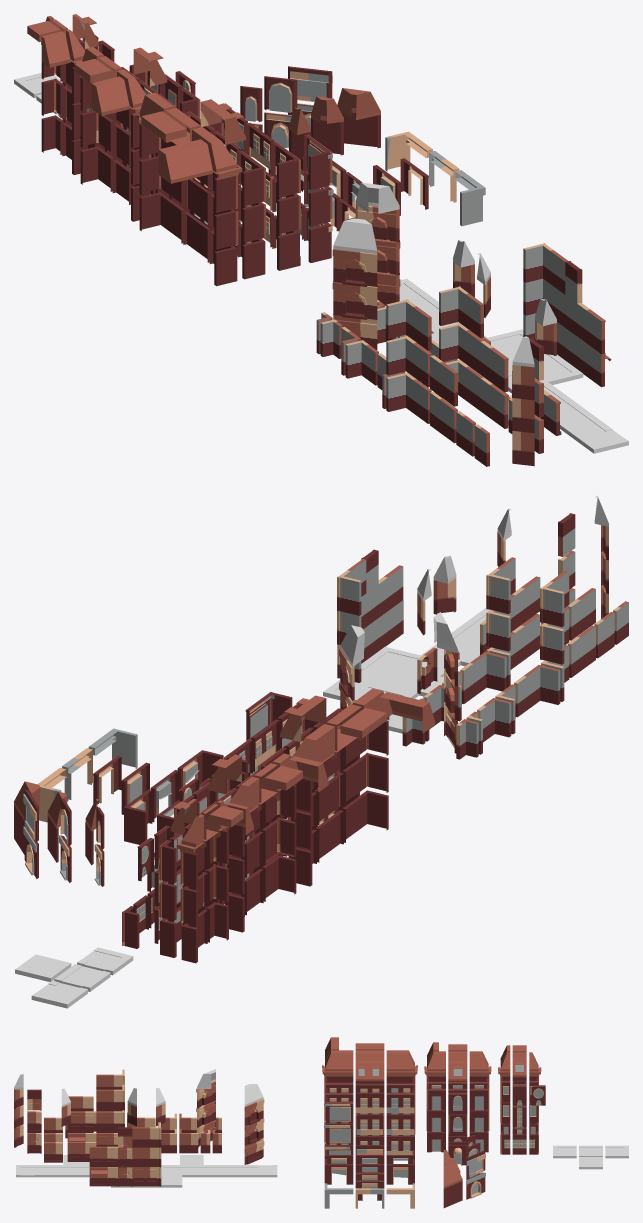
File: TOS_Modulaire_v5.fbx_Scene.fbx
The picture shows the model from 3 angles, top to bottom: view 1: azimuth 30°, elevation 25°; view 2: azimuth 150°, elevation 25°; view 3: azimuth 270°, elevation 25°; orthographic projection. The views are drawn at different scales.
Parts seen in each view (by area): view 1: B_Side_Roof_Bumped.001, Cube.025, Cube.024, Cube.026, Cube.004, Cube.031, B_Side_wall_plain.011, Cube.023, B_Angle_Right_Wall_Plain, B_Side_wall_plain.010, B_Angle_Left_Display_SideAndTopBeam, Cube.030 (+65 smaller); view 2: Cube.001, Cube.010, B_Angle_Left_wall_Plain, B_Angle_Left_wall_SideBeam, Cube.025, Cube.031, Cube.024, B_Angle_Left_Display_SideAndTopBeam, B_Angle_Right_garargeDoor_Closed, B_Side_Roof_Bumped.001, B_Side_Roof_Bumped_Windows, M_Angle_Left_wall_SideBeam (+40 smaller); view 3: B_Angle_Left_Display_SideAndTopBeam, B_Angle_Right_windows_TopAndSidebeam, B_Side_Roof_Bumped_Windows, B_Side_BumpedWindows_TopBeam, Cube.024, Cube.031, B_Angle_Left_Display_SideBeam, B_Angle_Right_Windows_SideBeam, B_Side_BumpedWindows_SideBeams, Cube.027, B_Angle_Left_Roof_Bumped, B_Angle_Right_roof_Bumped (+79 smaller).
Part boxes in pixels (left/top/right/bottom): B_Side_Roof_Bumped.001: left=158, top=139, right=212, bottom=183; Cube.025: left=386, top=299, right=431, bottom=350; Cube.024: left=439, top=286, right=483, bottom=337; Cube.026: left=386, top=336, right=431, bottom=387; Cube.004: left=386, top=372, right=431, bottom=423; Cube.031: left=523, top=243, right=568, bottom=294; B_Side_wall_plain.011: left=332, top=249, right=377, bottom=286; Cube.023: left=439, top=323, right=484, bottom=374; B_Angle_Right_Wall_Plain: left=139, top=192, right=184, bottom=243; B_Side_wall_plain.010: left=332, top=282, right=377, bottom=319; B_Angle_Left_Display_SideAndTopBeam: left=304, top=134, right=332, bottom=189; Cube.030: left=523, top=278, right=565, bottom=327; Cube.001: left=514, top=665, right=560, bottom=717; Cube.010: left=460, top=651, right=506, bottom=703; B_Angle_Left_wall_Plain: left=342, top=790, right=388, bottom=842; B_Angle_Left_wall_SideBeam: left=342, top=752, right=388, bottom=805; Cube.025: left=540, top=570, right=569, bottom=626; Cube.031: left=337, top=559, right=366, bottom=615; Cube.024: left=486, top=557, right=515, bottom=613; B_Angle_Left_Display_SideAndTopBeam: left=245, top=692, right=292, bottom=740; B_Angle_Right_garargeDoor_Closed: left=124, top=789, right=152, bottom=844; B_Side_Roof_Bumped.001: left=379, top=692, right=434, bottom=733; B_Side_Roof_Bumped_Windows: left=280, top=695, right=326, bottom=742; M_Angle_Left_wall_SideBeam: left=262, top=817, right=296, bottom=864; B_Angle_Left_Display_SideAndTopBeam: left=324, top=1096, right=353, bottom=1122; B_Angle_Right_windows_TopAndSidebeam: left=386, top=1087, right=415, bottom=1113; B_Side_Roof_Bumped_Windows: left=355, top=1060, right=384, bottom=1081; B_Side_BumpedWindows_TopBeam: left=355, top=1092, right=384, bottom=1113; Cube.024: left=96, top=1084, right=124, bottom=1110; Cube.031: left=132, top=1122, right=161, bottom=1147; B_Angle_Left_Display_SideBeam: left=324, top=1122, right=353, bottom=1143; B_Angle_Right_Windows_SideBeam: left=386, top=1113, right=415, bottom=1134; B_Side_BumpedWindows_SideBeams: left=355, top=1114, right=384, bottom=1134; Cube.027: left=89, top=1146, right=117, bottom=1166; B_Angle_Left_Roof_Bumped: left=325, top=1050, right=353, bottom=1071; B_Angle_Right_roof_Bumped: left=386, top=1050, right=414, bottom=1071.
Size of the model in its own units: 8999 by 3900 by 25879.
